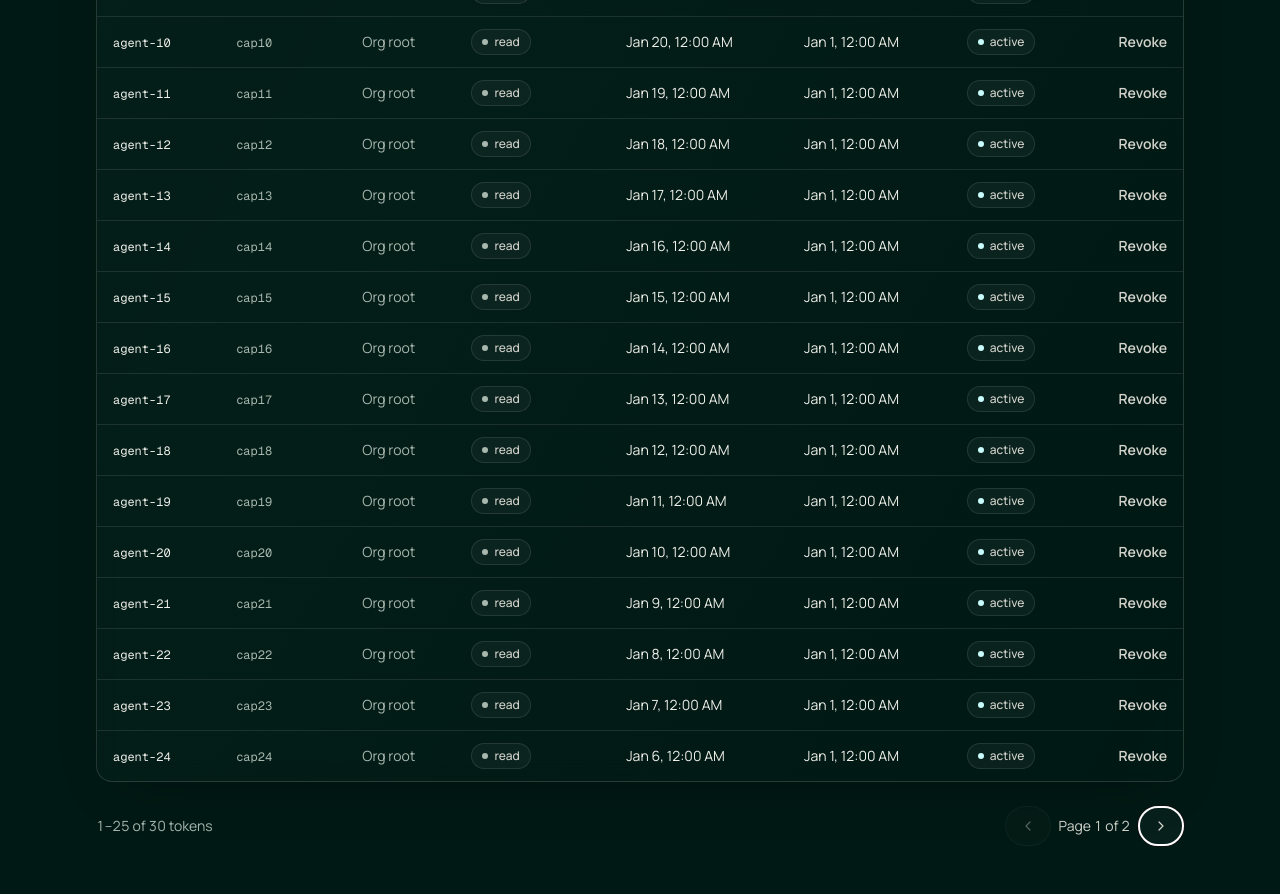
Access pagers through a page turn › Tokens: the pager stays, inert, and Next keeps focus
(page scrolled)
Click the button named "Next page".
click(1161, 826)  # box [1138, 806, 1184, 846]
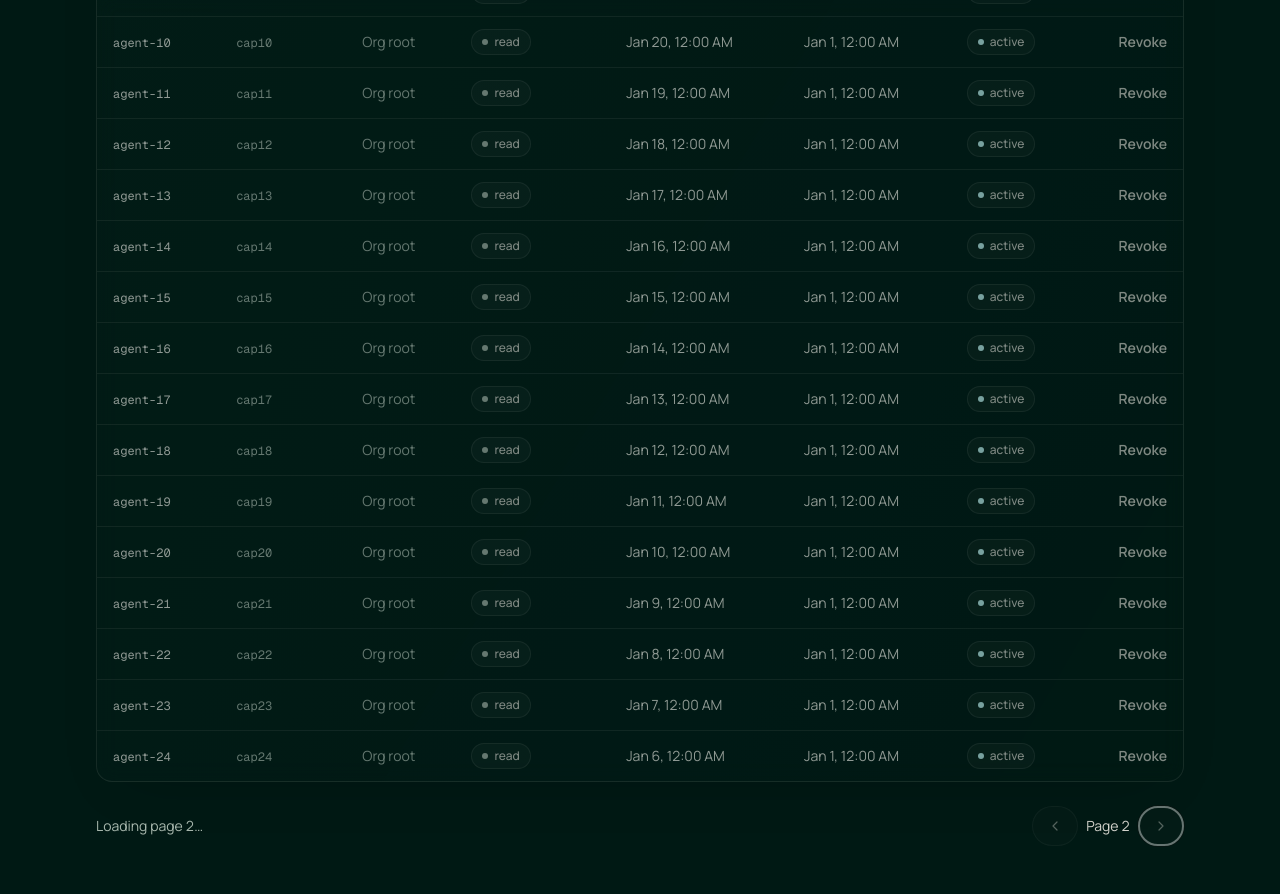
Now the navigation bar named "Pages of tokens" shows "Loading page 2…", box [96, 816, 203, 835]
Now the text "Pages of tokens" no longer shows "of"
Click the button named "Next page".
click(1161, 826)  # box [1138, 806, 1184, 846]
(page scrolled)
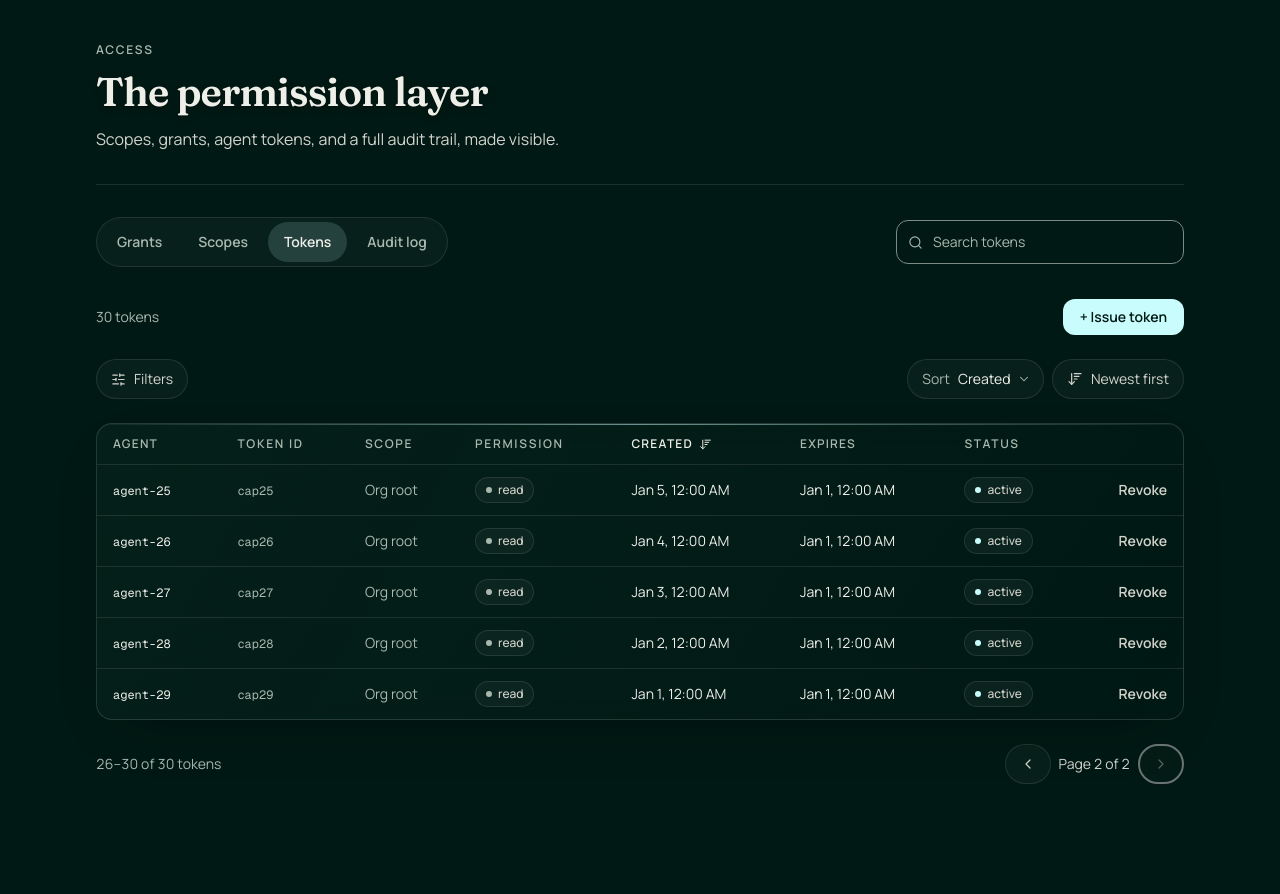
Now the text "agent-25" is shown, box [113, 483, 171, 499]
